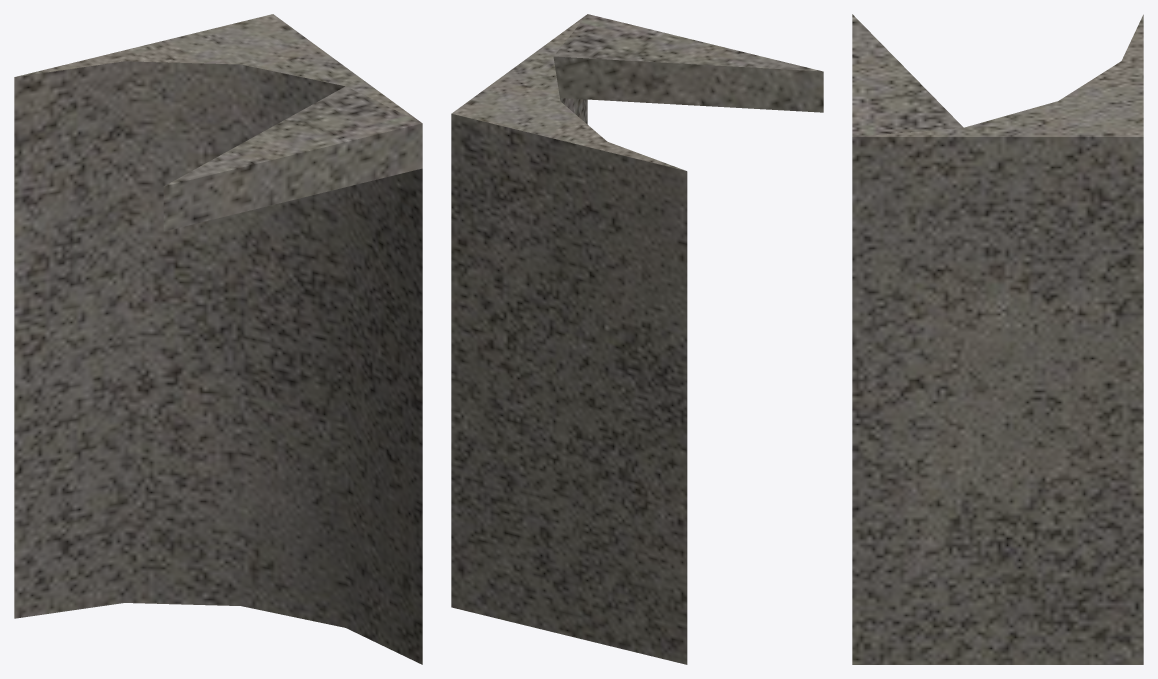
The model's file is WF_SpiralStairsR1mD.obj.
3 views of the same model, side by side, from view 1: azimuth 30°, elevation 25°; view 2: azimuth 150°, elevation 25°; view 3: azimuth 270°, elevation 25° (orthographic). The views are drawn at different scales.
Parts seen in each view (by area): view 1: object 2, unnamed_object1; view 2: object 2, unnamed_object1; view 3: object 2, unnamed_object1.
Part boxes in pixels (x1,y1,x2,y2): object 2: (14, 14, 422, 664); unnamed_object1: (163, 86, 422, 231); object 2: (451, 14, 687, 664); unnamed_object1: (553, 14, 823, 112); object 2: (852, 14, 1143, 664); unnamed_object1: (852, 14, 963, 136).
Size of the model in its own units: 1 by 2 by 1.
1 material, 1 textured.
